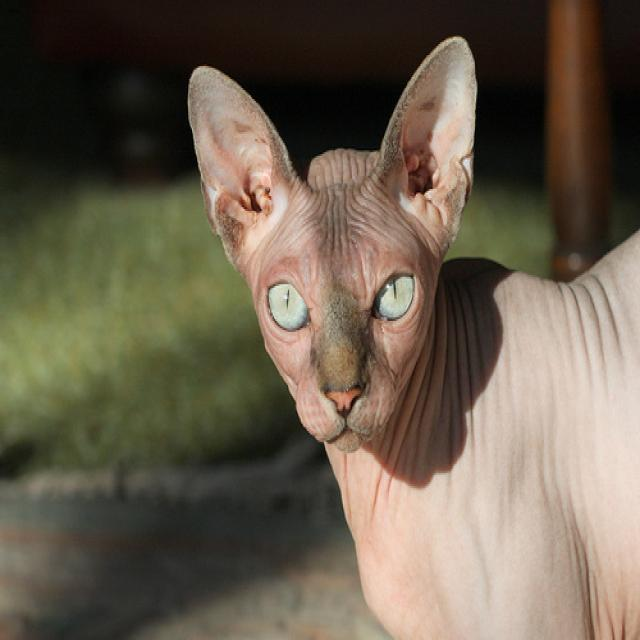Sphynx: (185, 31, 475, 449)
